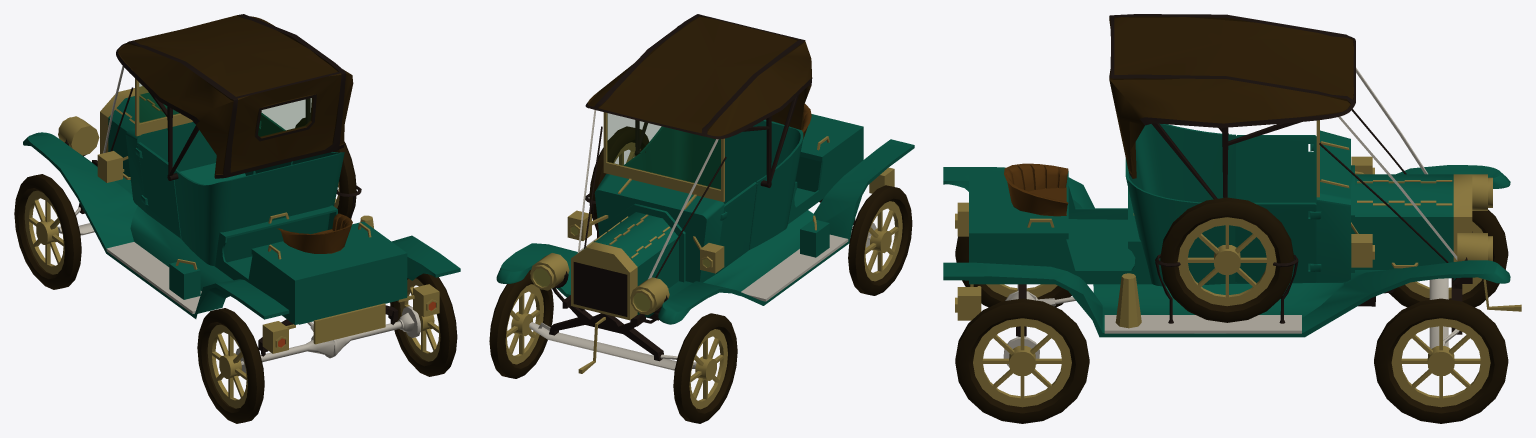
File: 1913Car.FBX
The picture shows the model from 3 angles, left to right: view 1: azimuth 30°, elevation 25°; view 2: azimuth 150°, elevation 25°; view 3: azimuth 270°, elevation 25°; orthographic projection. The views are drawn at different scales.
Parts seen in each view (by area): view 1: 1913Car; view 2: 1913Car; view 3: 1913Car.
Part boxes in pixels (box(x1,y1,x2,y2)): 1913Car: box(14, 14, 460, 423); 1913Car: box(489, 14, 914, 423); 1913Car: box(943, 14, 1521, 423).
Size of the model in its own units: 60.56 by 79.47 by 129.
